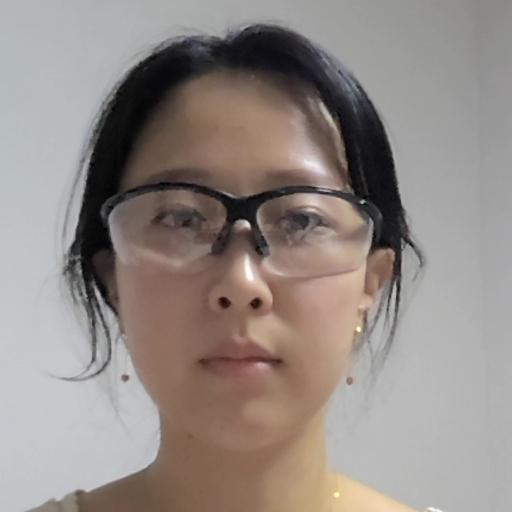glasses: (71, 31, 410, 455)
